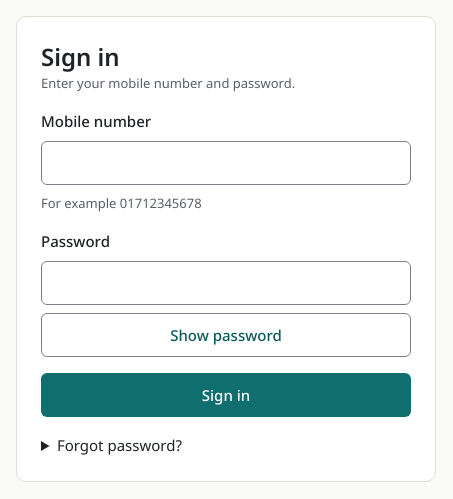
it: LoginPage › keeps non-digits out of the code field
Type "+8801712345678" into the field labelled "Mobile number" at [226, 163], box top-left (41, 141), bottom-right (411, 185)
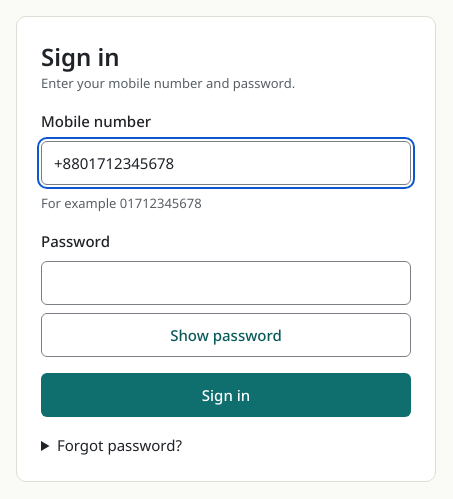
Type "correct-horse-battery" into the password field labelled "Password" at [226, 283], box top-left (41, 261), bottom-right (411, 305)
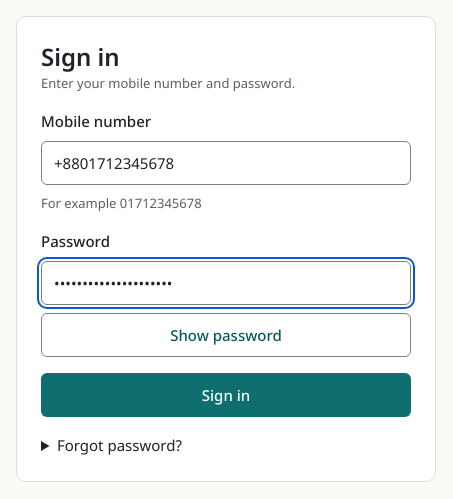
Click the button "Sign in" at [226, 395], box top-left (41, 373), bottom-right (411, 417)
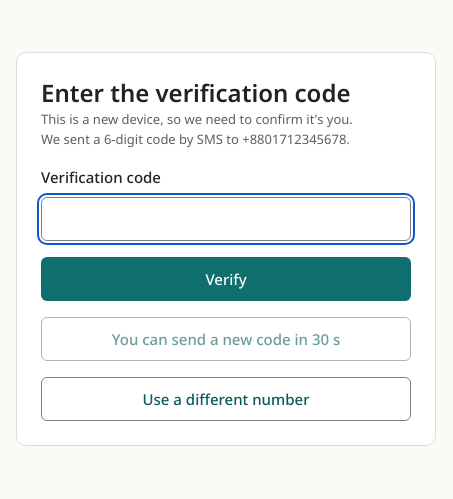
Type "12ab34cd56" into the field labelled "Verification code" at [226, 219], box top-left (41, 197), bottom-right (411, 241)
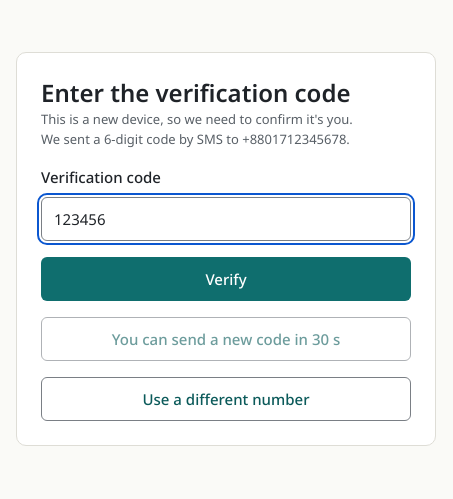
Now the field labelled "Verification code" holds "123456", box top-left (41, 197), bottom-right (411, 241)
